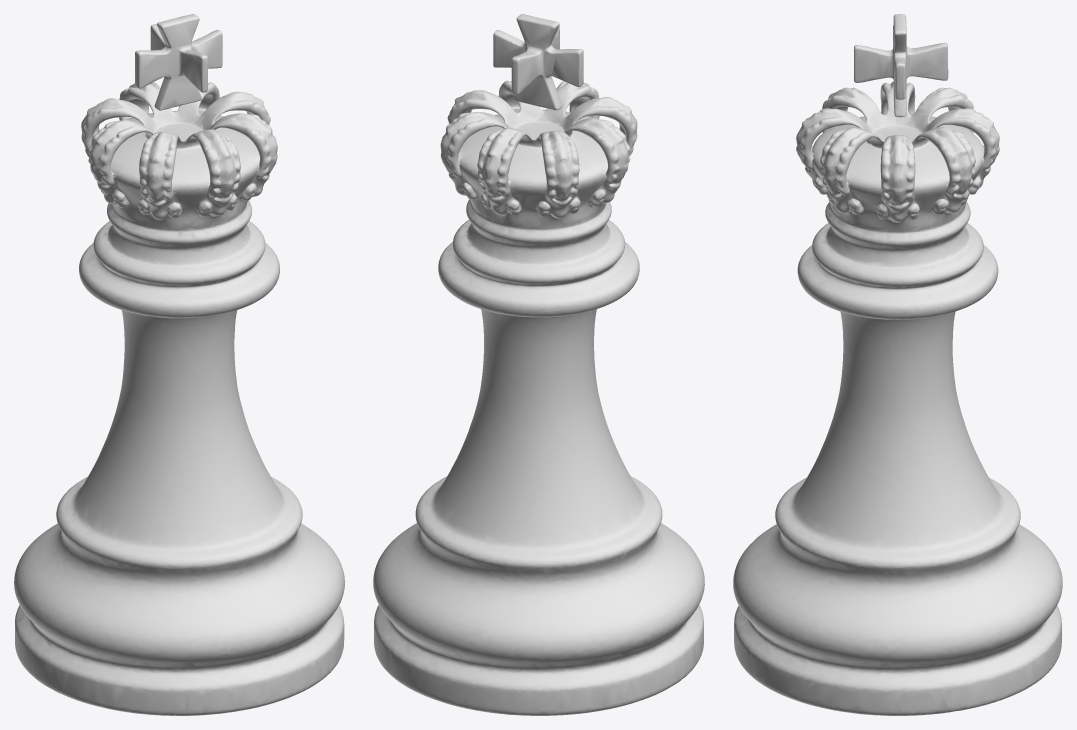
Rendered from king_med.glb.
3 renders of one model, left to right at view 1: azimuth 30°, elevation 25°; view 2: azimuth 150°, elevation 25°; view 3: azimuth 270°, elevation 25°, orthographic.
Visible parts, largest first — view 1: geometry_0; view 2: geometry_0; view 3: geometry_0.
Boxes of the visible parts, bbox=[...] form: geometry_0: bbox=[14, 14, 344, 715]; geometry_0: bbox=[373, 14, 704, 715]; geometry_0: bbox=[733, 14, 1062, 715].
Bounding box in the file's own units: 0.4769 × 1 × 0.477.
Materials: 1 (1 with a texture image).
